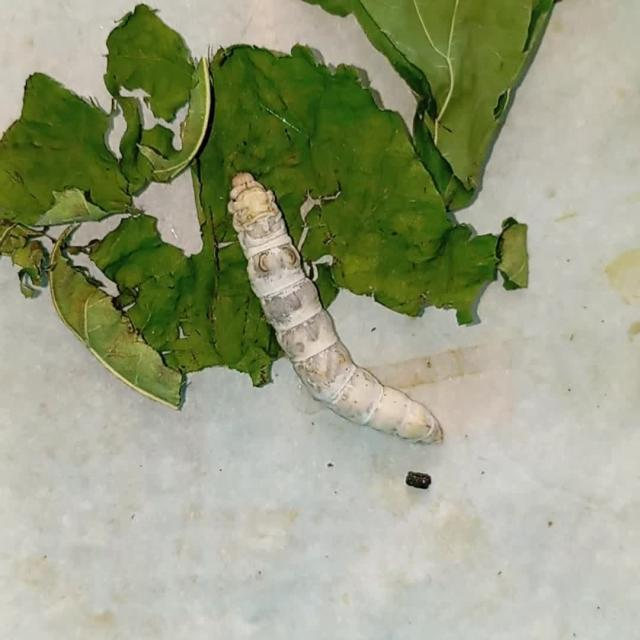Grasserie: (202, 154, 466, 469)
